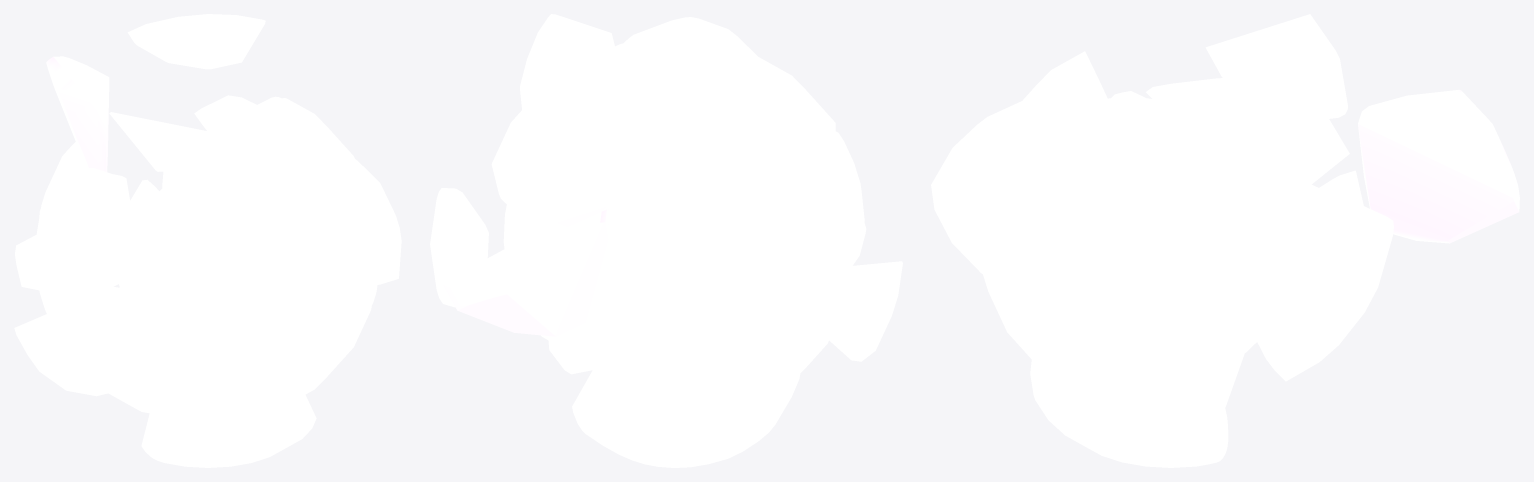
The model's file is abstractball7.2.glb.
3 renders of one model, left to right at view 1: azimuth 30°, elevation 25°; view 2: azimuth 150°, elevation 25°; view 3: azimuth 270°, elevation 25°, orthographic. The views are drawn at different scales.
Parts seen in each view (by area): view 1: Voronoi_Fracture.7; view 2: Voronoi_Fracture.7; view 3: Voronoi_Fracture.7.
Boxes of the visible parts, bbox=[...] form: Voronoi_Fracture.7: bbox=[14, 14, 401, 467]; Voronoi_Fracture.7: bbox=[430, 14, 902, 467]; Voronoi_Fracture.7: bbox=[931, 14, 1519, 467].
Size of what is drawn, in the model's own units: 3.33 by 3.6 by 4.36.
1 material, 1 textured.
